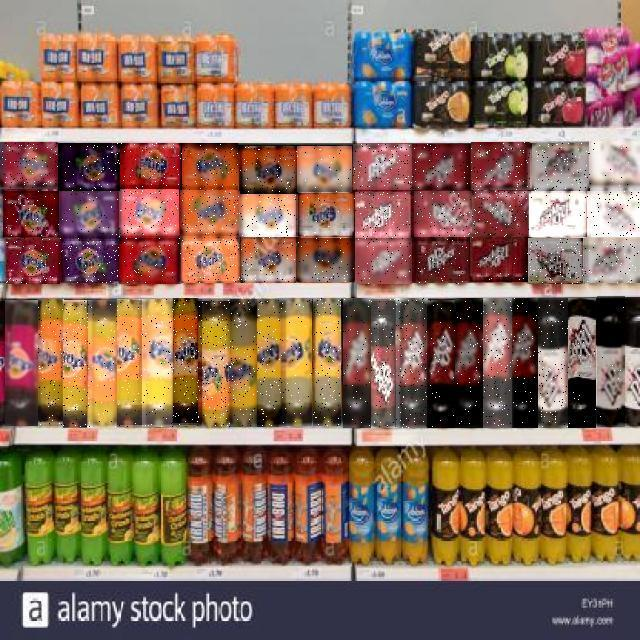Drinks: (5, 300, 38, 426), (398, 298, 428, 428), (538, 298, 568, 428), (144, 299, 174, 427), (567, 298, 596, 428), (483, 298, 512, 428), (201, 299, 230, 427), (427, 300, 456, 428), (597, 296, 625, 427), (511, 298, 539, 428), (343, 298, 371, 428), (372, 298, 400, 428), (455, 298, 483, 428), (64, 300, 92, 428), (91, 300, 119, 428), (118, 299, 146, 427), (174, 299, 202, 427), (230, 299, 258, 427), (258, 299, 286, 427), (285, 299, 313, 427), (313, 299, 341, 427), (38, 300, 64, 426), (58, 143, 120, 191), (120, 144, 182, 192), (472, 142, 532, 190), (119, 239, 181, 285), (239, 146, 298, 194), (532, 143, 590, 191), (528, 238, 588, 284), (59, 192, 119, 238), (119, 192, 179, 238), (180, 192, 240, 238), (60, 237, 120, 283), (180, 237, 240, 283), (353, 144, 413, 190), (0, 142, 58, 189), (529, 191, 588, 237), (182, 144, 238, 192), (413, 144, 471, 190), (356, 193, 414, 239), (414, 191, 472, 237), (472, 191, 530, 237), (356, 239, 414, 285), (470, 236, 528, 282), (586, 235, 640, 283), (3, 191, 59, 237), (414, 239, 471, 284), (239, 194, 298, 237), (296, 193, 355, 236), (297, 146, 352, 192), (241, 237, 296, 283), (297, 238, 354, 282), (6, 238, 60, 284), (589, 142, 640, 190), (587, 191, 640, 237)
